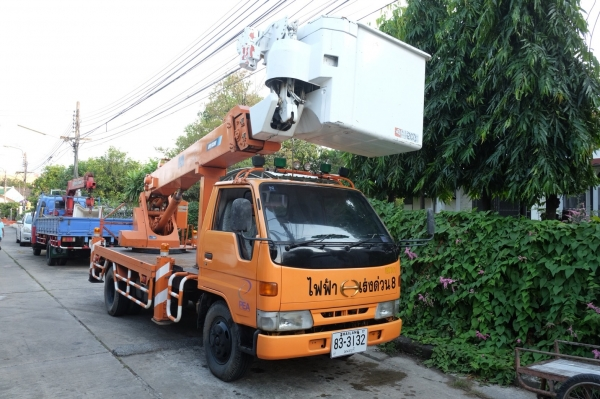truck: (121, 170, 406, 379)
